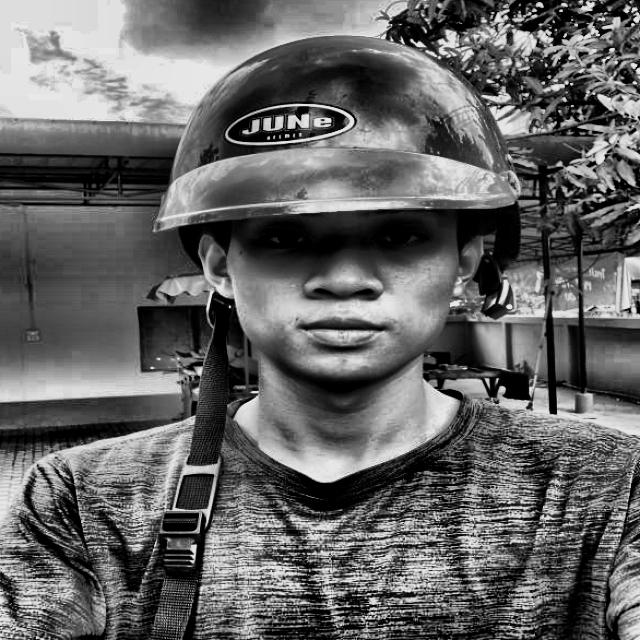Helmet: (148, 18, 540, 394)
